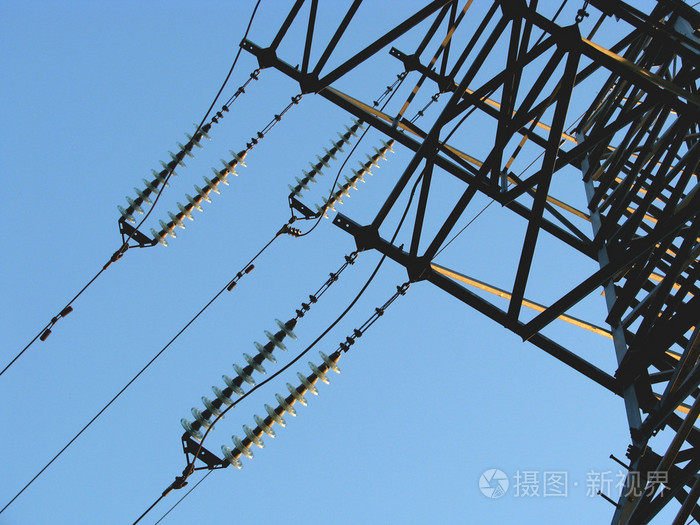insulator: (222, 347, 340, 470), (181, 314, 295, 438), (152, 148, 244, 241), (118, 126, 209, 218), (316, 143, 393, 221), (290, 120, 366, 195)
